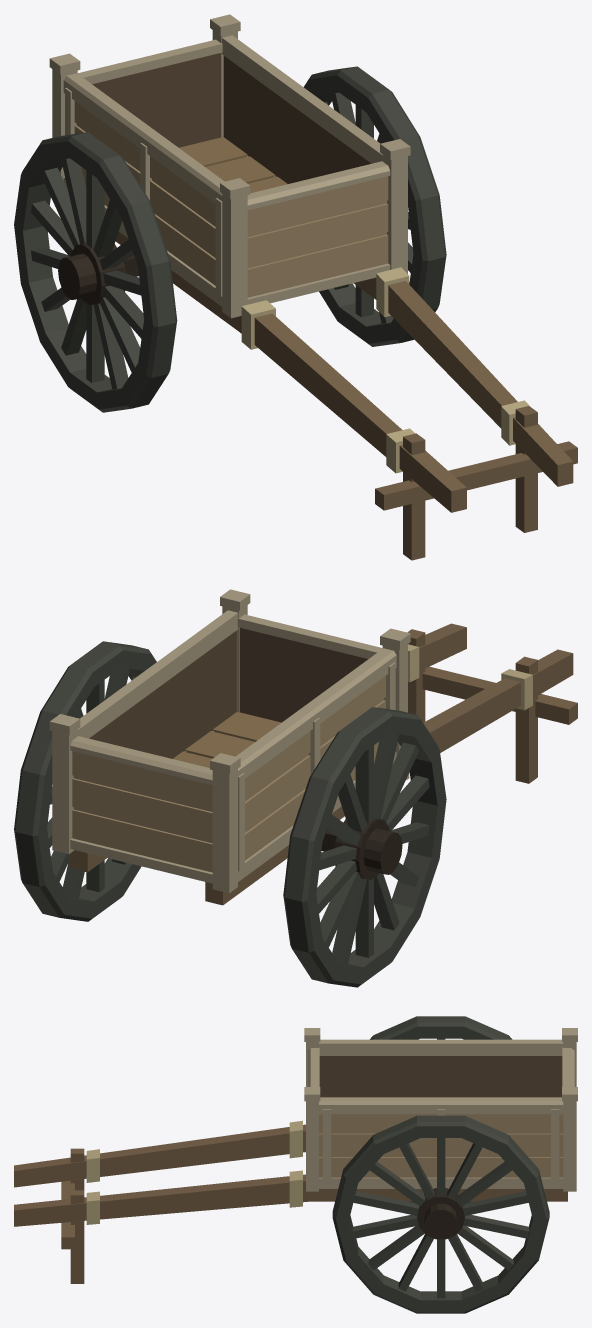
Rendered from ox-cart-9c857f.glb.
3 renders of one model, top to bottom at view 1: azimuth 30°, elevation 25°; view 2: azimuth 150°, elevation 25°; view 3: azimuth 270°, elevation 25°, orthographic. The views are drawn at different scales.
Parts seen in each view (by area): view 1: cart-body, wheel-l-mesh, wheel-r-mesh; view 2: cart-body, wheel-l-mesh, wheel-r-mesh; view 3: cart-body, wheel-r-mesh, wheel-l-mesh.
Boxes of the visible parts, left/top/right/bottom form: cart-body: left=49, top=14, right=577, bottom=560; wheel-l-mesh: left=14, top=132, right=177, bottom=412; wheel-r-mesh: left=304, top=66, right=446, bottom=346; cart-body: left=49, top=589, right=577, bottom=905; wheel-l-mesh: left=283, top=707, right=446, bottom=987; wheel-r-mesh: left=14, top=641, right=156, bottom=921; cart-body: left=14, top=1028, right=577, bottom=1283; wheel-r-mesh: left=332, top=1115, right=549, bottom=1313; wheel-l-mesh: left=370, top=1016, right=512, bottom=1202.
Bounding box in the file's own units: 2 × 1.56 × 4.
